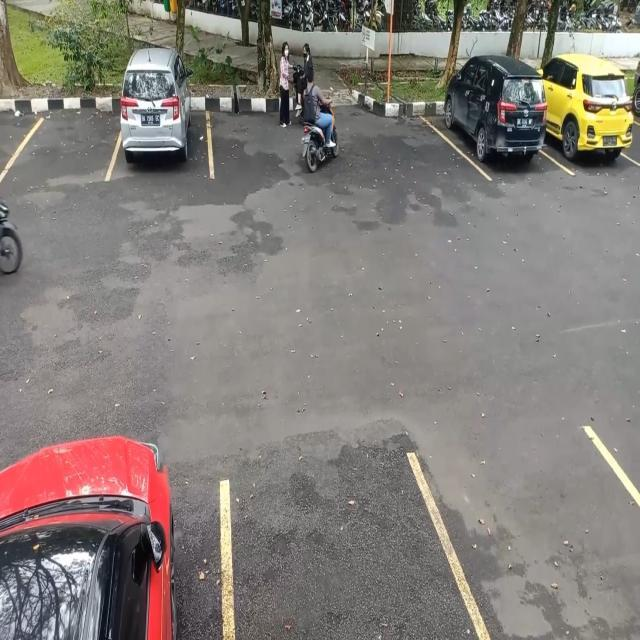empty: (7, 90, 113, 182)
occupied: (441, 72, 552, 178), (549, 59, 636, 178), (114, 74, 213, 177)
